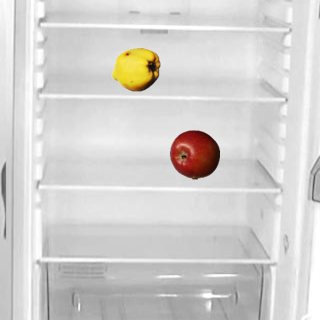Apple Braeburn: (169, 129, 219, 179)
Quince: (110, 44, 160, 94)
